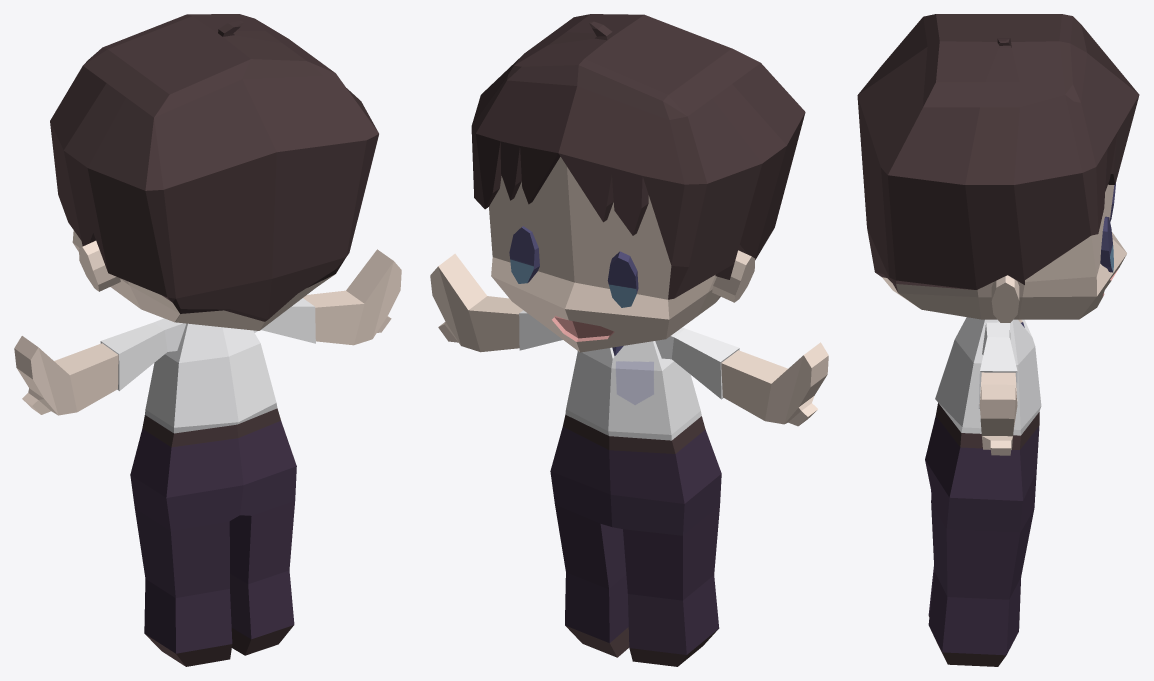
The model's file is Shinji.fbx.
3 views of the same model, side by side, from view 1: azimuth 30°, elevation 25°; view 2: azimuth 150°, elevation 25°; view 3: azimuth 270°, elevation 25° (orthographic). The views are drawn at different scales.
Visible parts, largest first — view 1: Shinji; view 2: Shinji; view 3: Shinji.
Boxes of the visible parts, x1=… form: Shinji: x1=14, y1=14, x2=401, y2=666; Shinji: x1=430, y1=14, x2=828, y2=666; Shinji: x1=857, y1=14, x2=1139, y2=666.
Bounding box in the file's own units: 256 × 165 × 401.
